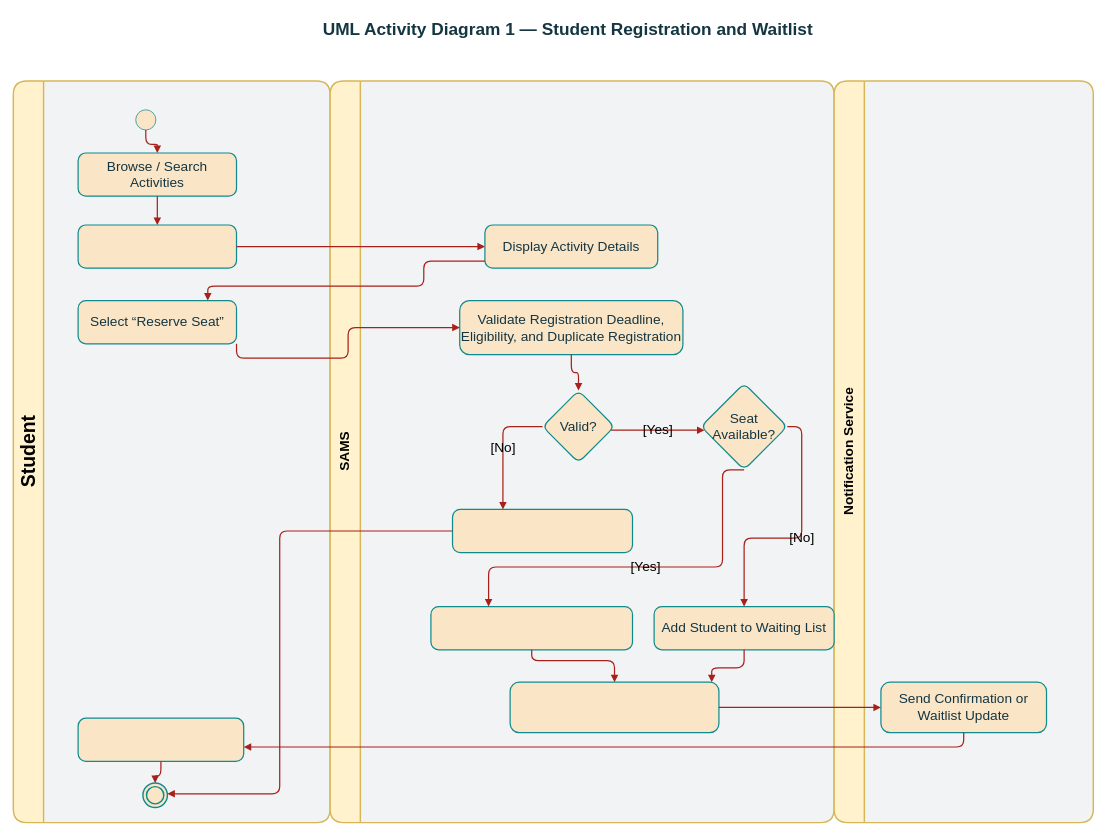
This 1106x835 diagram has some shape labels left out. Here are the shapes that lost their labels. From the top down, the centre of each, then its label:
pixel 157 246: Select Activity
pixel 542 530: Show Rejection Reason
pixel 531 628: Create Confirmed Registration
pixel 614 707: Update Activity Capacity / Waitlist Position
pixel 160 739: Display Registration Status
